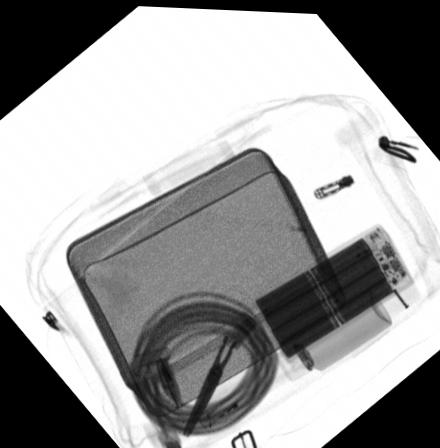Lighter: (196, 389, 247, 433)
Powerbank: (247, 219, 416, 356)
Scissors: (180, 276, 278, 437)
Sprayer: (273, 283, 391, 379)
